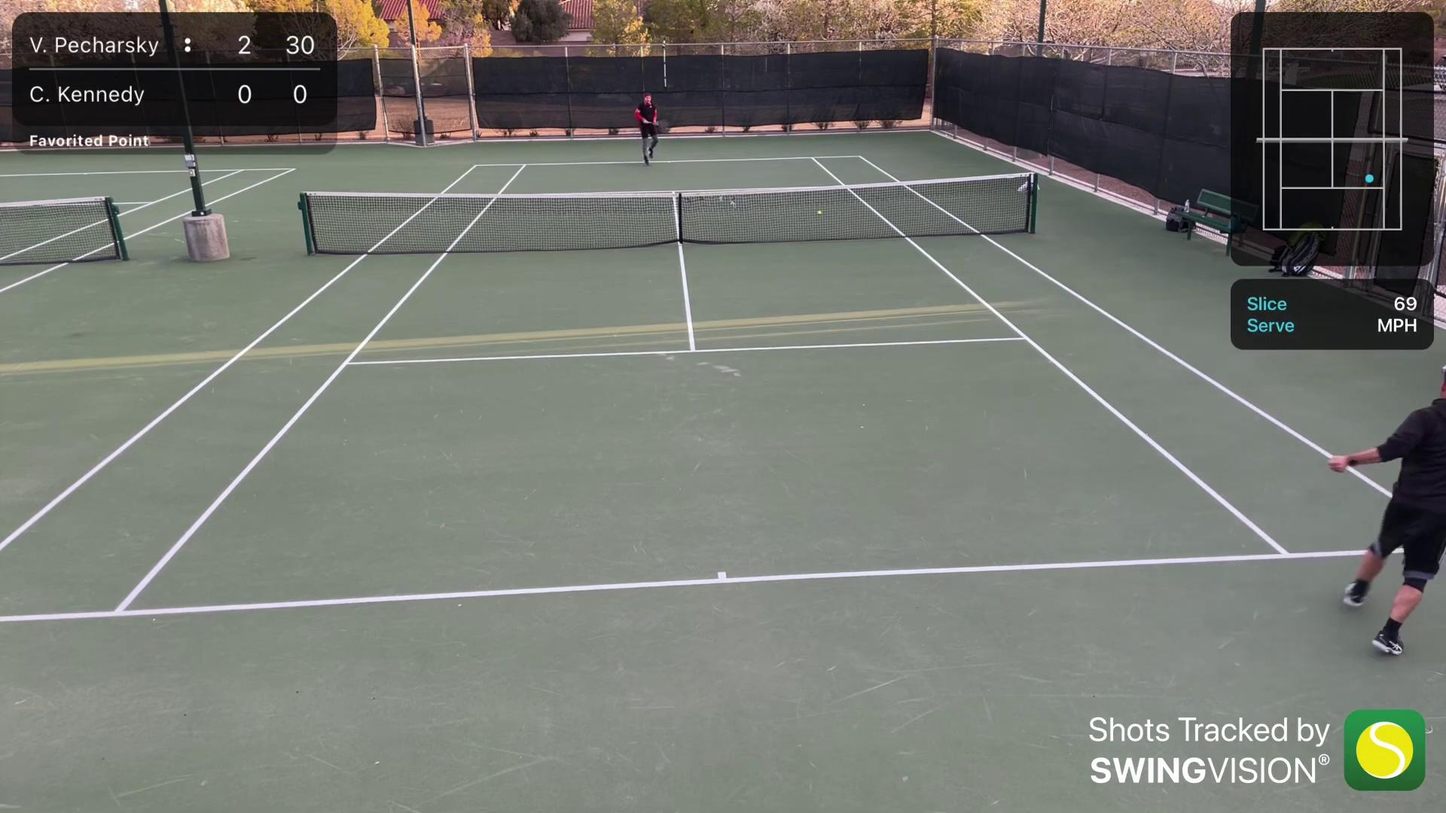ball: (816, 210, 822, 216)
